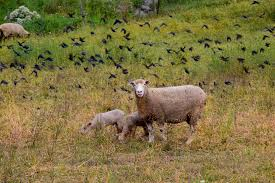sheep: (135, 79, 200, 148), (80, 106, 129, 139), (113, 109, 150, 150), (1, 21, 31, 40)
